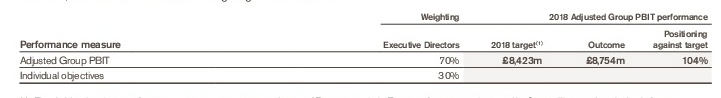table: (0, 0, 721, 98)
